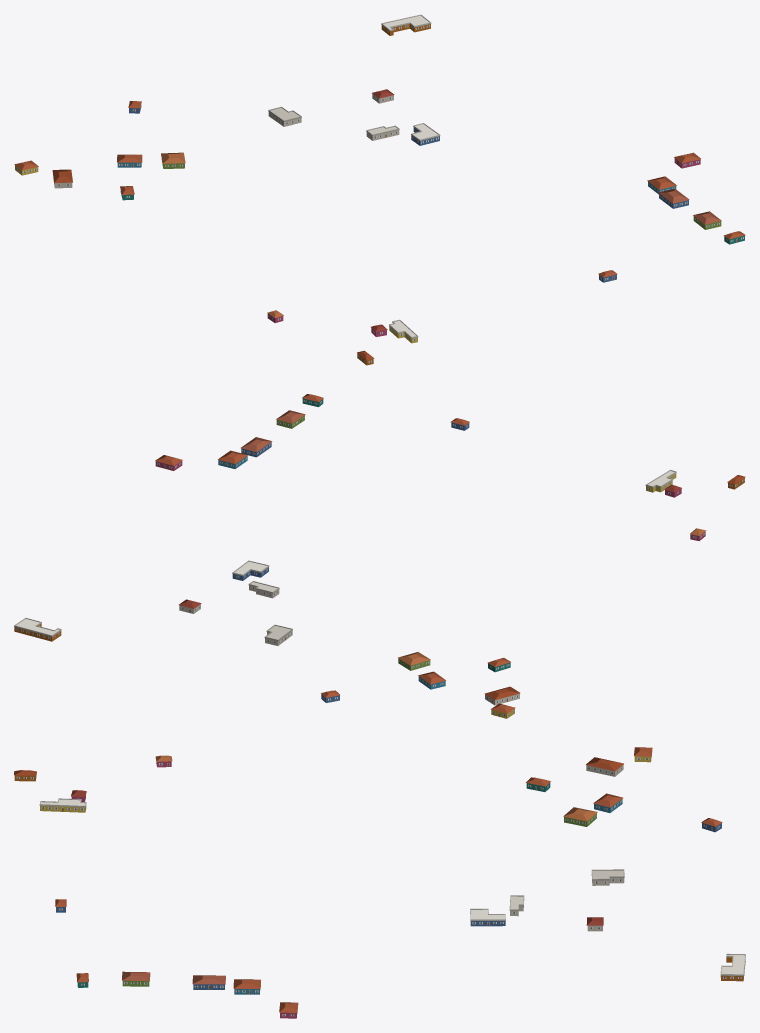
Rendered from msb_noord_m19_m11.glb.
The picture shows the model from 3 angles, top to bottom: view 1: azimuth 30°, elevation 25°; view 2: azimuth 150°, elevation 25°; view 3: azimuth 270°, elevation 25°; orthographic projection. The views are drawn at different scales.
Parts seen in each view (by area): view 1: msb_noord_m19_m11_lod0; view 2: msb_noord_m19_m11_lod0; view 3: msb_noord_m19_m11_lod0.
Boxes of the visible parts, box(x1,y1,x2,y2) form: msb_noord_m19_m11_lod0: box(14, 14, 745, 365); msb_noord_m19_m11_lod0: box(14, 394, 745, 718); msb_noord_m19_m11_lod0: box(14, 747, 745, 1018).
Size of what is drawn, in the model's own units: 342 by 14.37 by 388.
3 materials, 1 textured.
